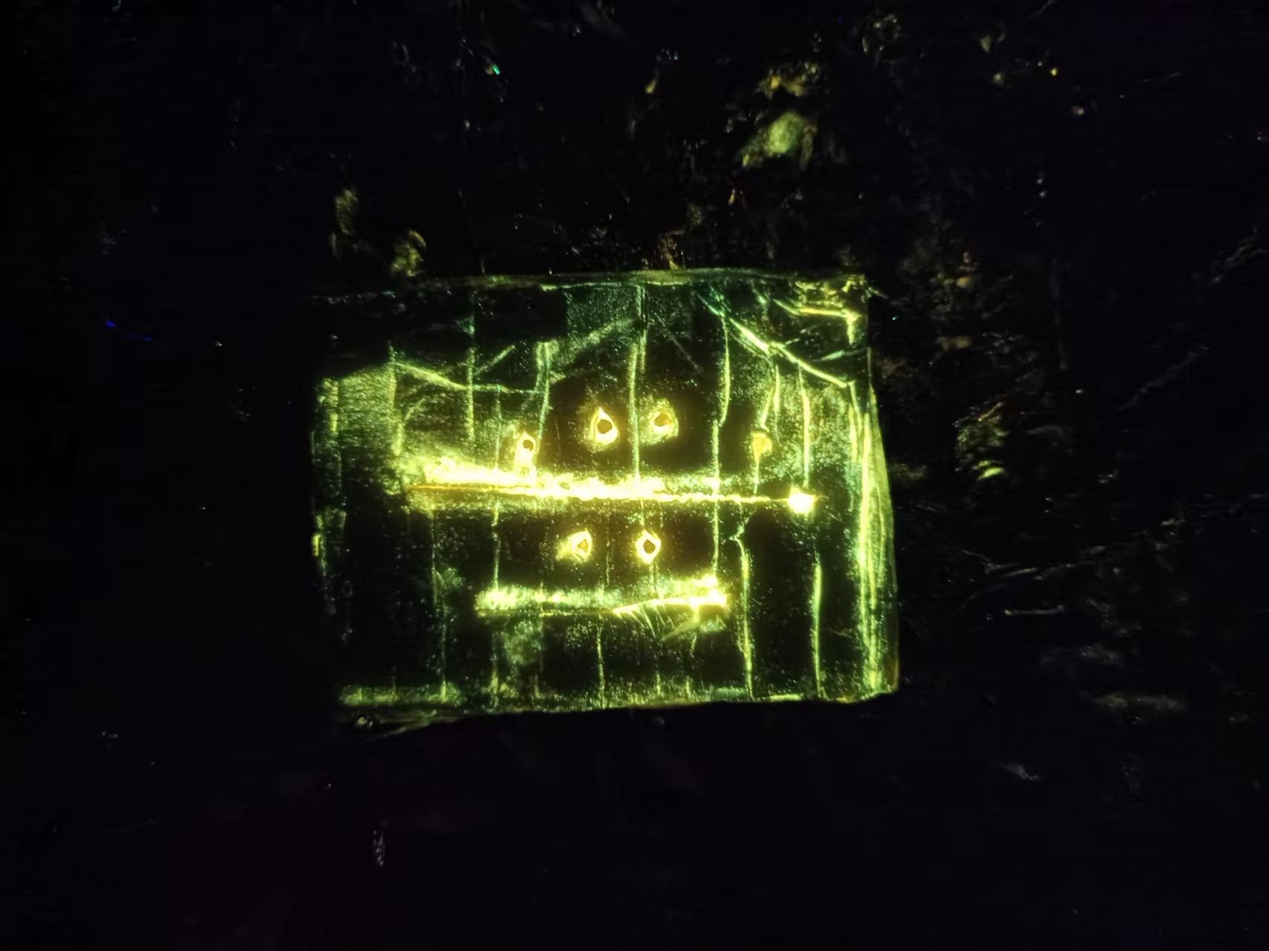Crater: (540, 524, 614, 585), (638, 391, 697, 455), (570, 400, 628, 460), (505, 415, 557, 465), (628, 523, 677, 575)
Fissure: (381, 457, 830, 533), (459, 568, 763, 642)
